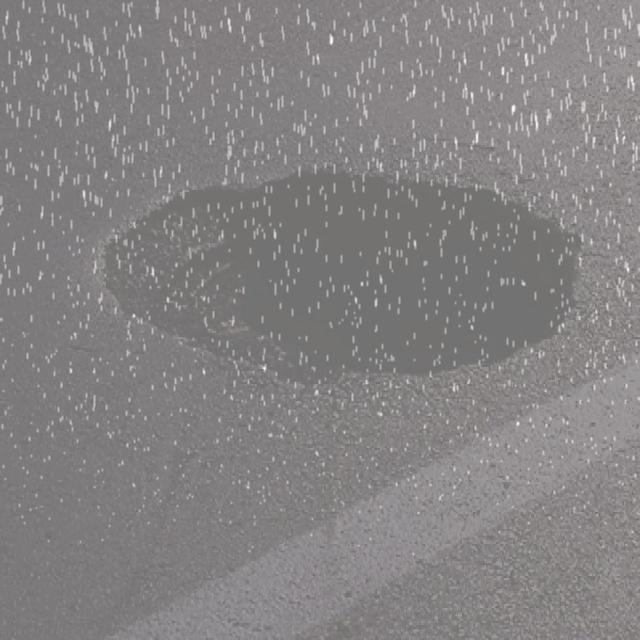Pothole: (93, 161, 590, 387)
